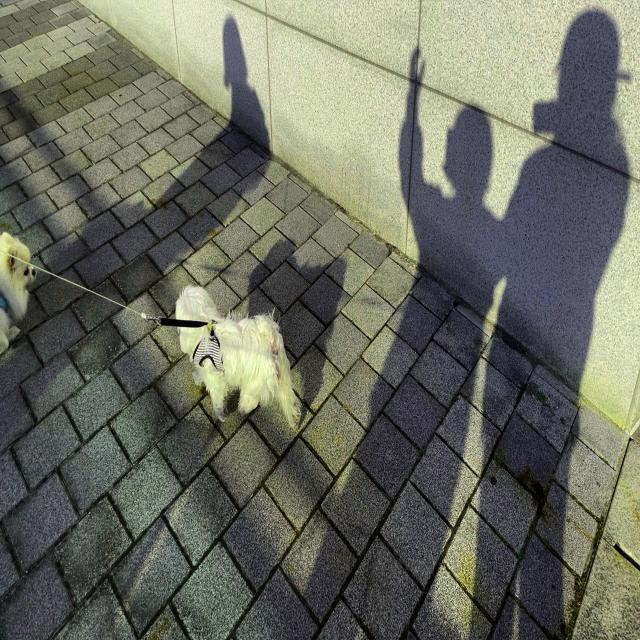Dog: (175, 282, 301, 430), (0, 231, 36, 357)
